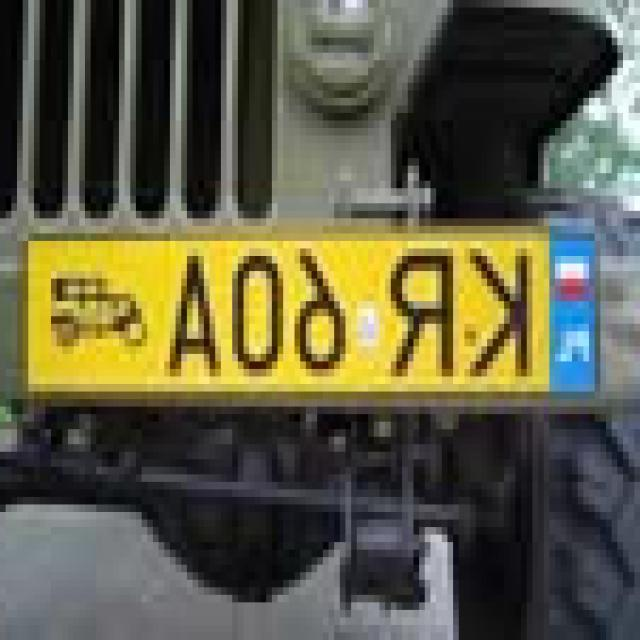pl_license_plate: (34, 218, 606, 384)
